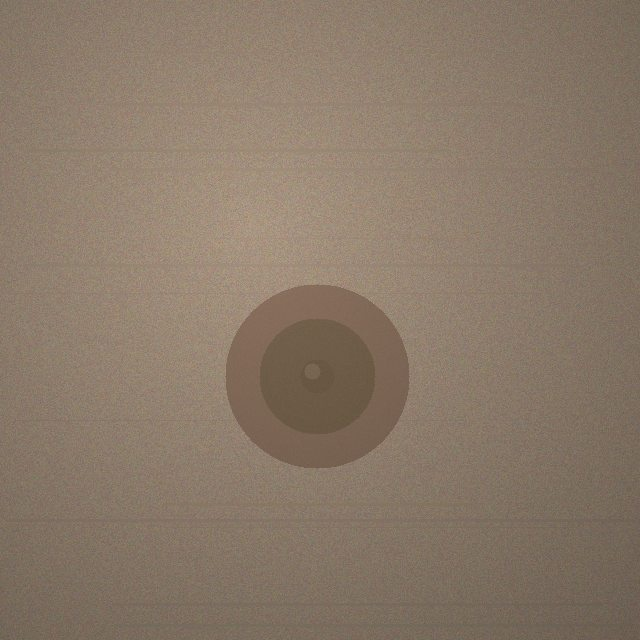good: (225, 284, 409, 468)
